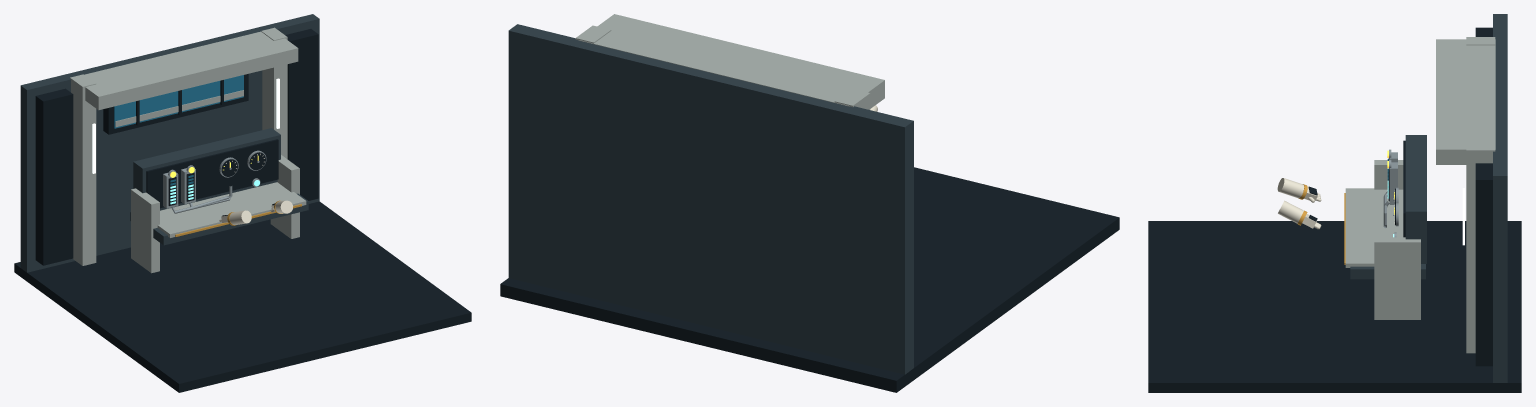
File: 03-propulsion.glb
3 views of the same model, side by side, from view 1: azimuth 30°, elevation 25°; view 2: azimuth 150°, elevation 25°; view 3: azimuth 270°, elevation 25° (orthographic). The views are drawn at different scales.
Parts seen in each view (by area): view 1: floor, aft-bulkhead, wall-recess (×2), ceiling-bulkhead, column (×2), instrument-face, side-console (×2), control-surface, instrument-housing, outside-color, window-frame, center-desk (+1 smaller); view 2: aft-bulkhead, floor, ceiling-bulkhead; view 3: floor, ceiling-bulkhead, aft-bulkhead, side-console (×2), wall-recess, control-surface, column, instrument-housing, sleeve (×2), center-desk.
Boxes of the visible parts, box(x1,y1,x2,y2) form: floor: box(14, 201, 471, 392); aft-bulkhead: box(20, 14, 319, 272); wall-recess (×2): box(35, 29, 318, 265); ceiling-bulkhead: box(84, 31, 298, 110); column (×2): box(70, 27, 287, 265); instrument-face: box(146, 139, 278, 208); side-console (×2): box(131, 155, 299, 273); control-surface: box(157, 182, 306, 237); instrument-housing: box(133, 128, 280, 210); outside-color: box(114, 75, 243, 128); window-frame: box(103, 74, 248, 134); center-desk: box(130, 193, 308, 245); aft-bulkhead: box(508, 24, 913, 374); floor: box(500, 167, 1119, 392); ceiling-bulkhead: box(578, 14, 884, 108); floor: box(1148, 221, 1521, 392); ceiling-bulkhead: box(1436, 39, 1495, 164); aft-bulkhead: box(1493, 14, 1507, 382); side-console (×2): box(1374, 160, 1420, 319); wall-recess: box(1475, 163, 1492, 366); control-surface: box(1345, 188, 1403, 267); column: box(1466, 142, 1495, 353); instrument-housing: box(1405, 135, 1426, 263); sleeve (×2): box(1277, 178, 1304, 223); center-desk: box(1350, 264, 1425, 279).
Size of the model in its own units: 4.1 by 2.58 by 4.
